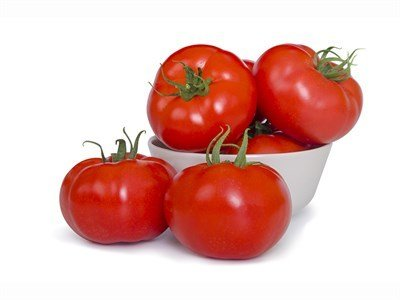Tomato: (163, 156, 299, 263), (254, 43, 373, 150), (148, 42, 253, 155), (56, 157, 182, 246)
